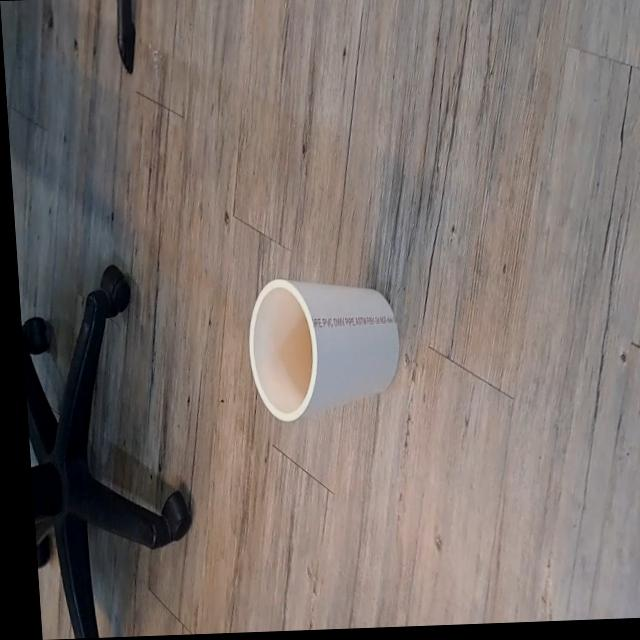CORAL: (238, 247, 410, 435)
